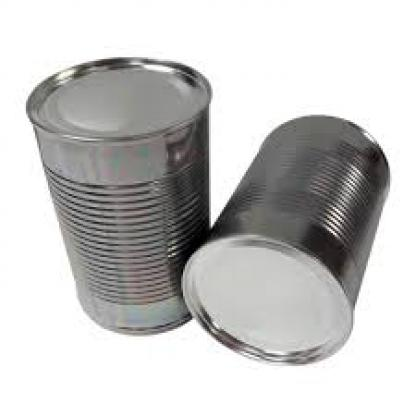METAL: (177, 111, 392, 362), (24, 57, 211, 333)
